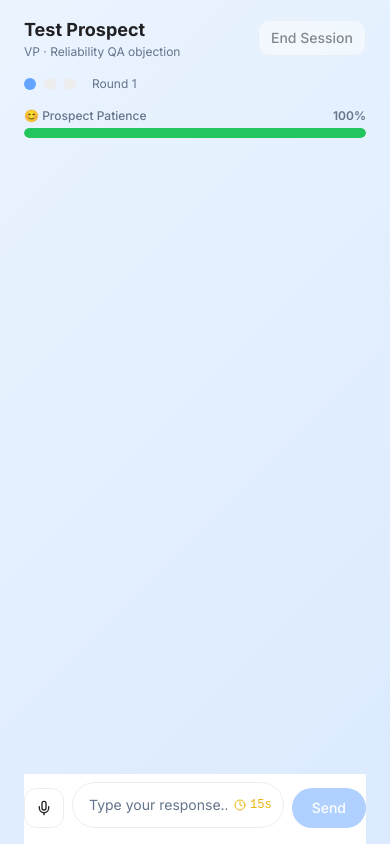
GamifiedRoleplay Phase 2A reliability › ends an unresolved failed turn as an explicitly unscored session
Type "A failed response." into the field with placeholder "Type your response…" at [178, 805], box [72, 782, 284, 828]
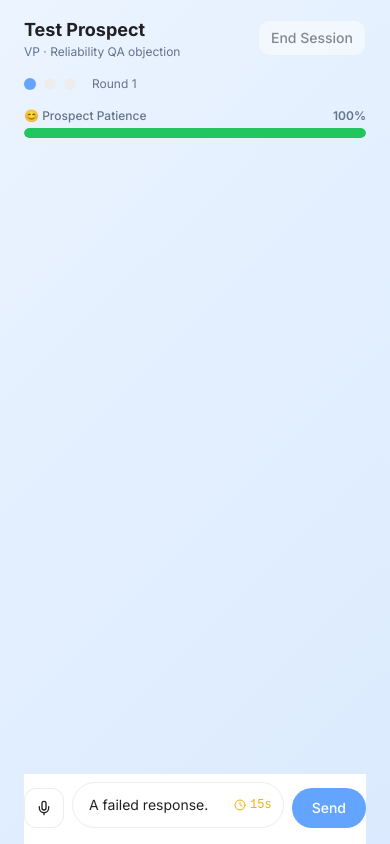
Click the button "Send" at [329, 808], box [292, 788, 366, 828]
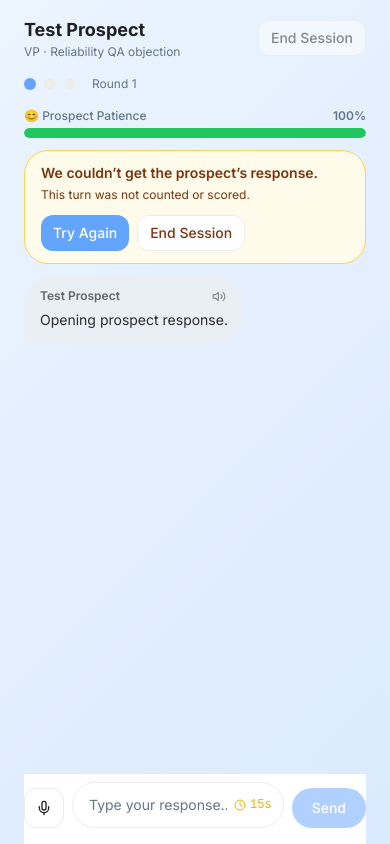
Result: the text "This turn was not counted or scored." is shown at [41, 187, 250, 202]
Click the button "End Session" below "This turn was not counted or scored." at [191, 233], box [137, 215, 245, 251]
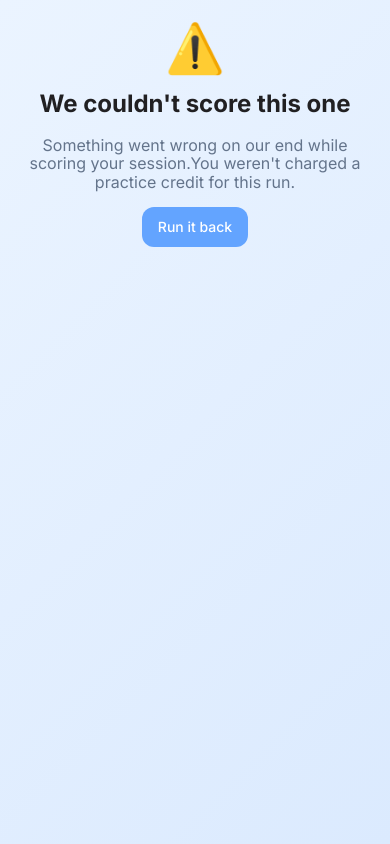
Result: the heading "We couldn't score this one" is shown at [24, 88, 366, 120]
Result: the text "weren't charged a practice credit" is shown at [95, 153, 360, 192]
